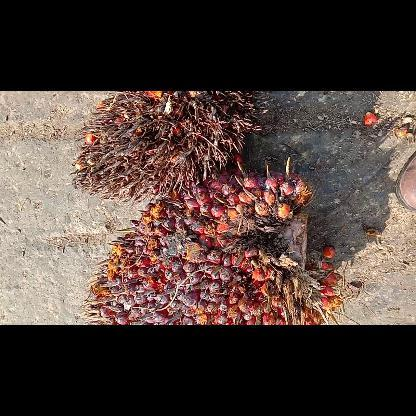TBS masak: (81, 158, 340, 324)
Terlalu masak: (70, 91, 260, 203)
